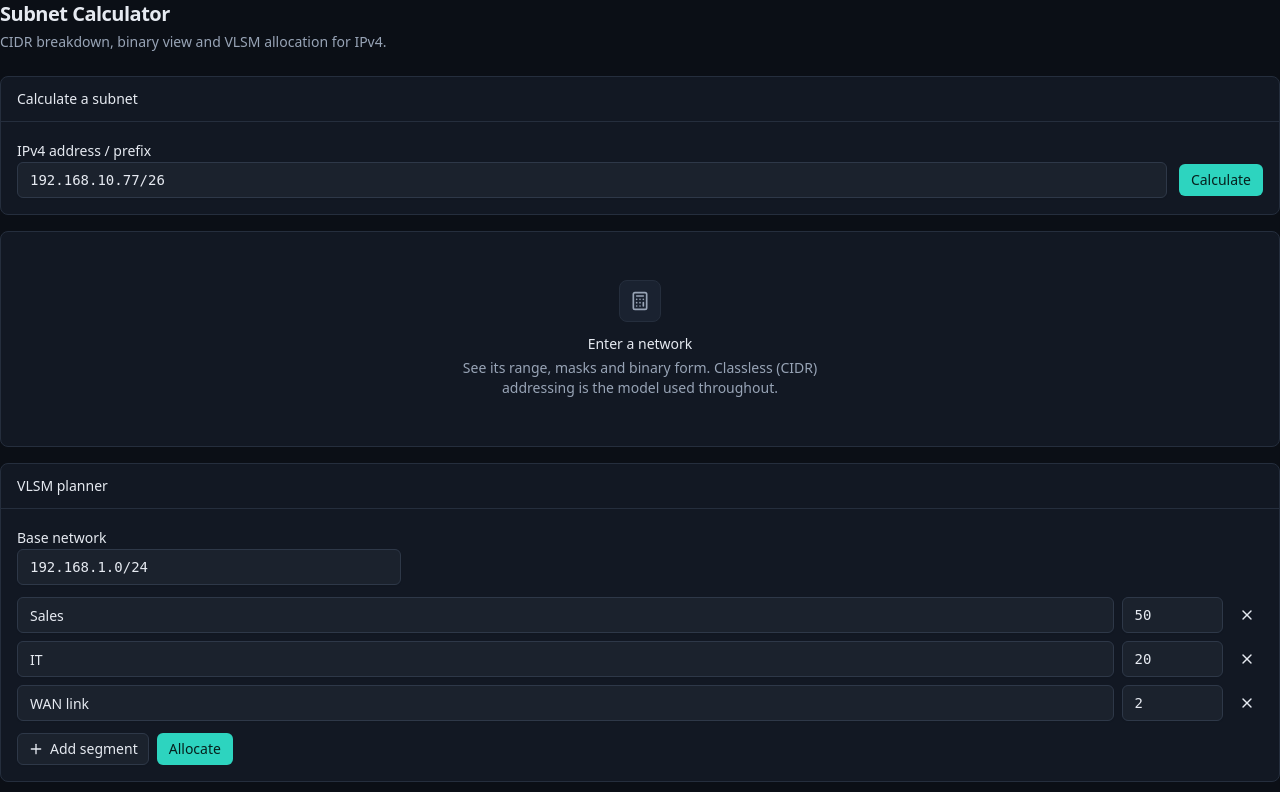
Test: SubnetPage › renders the server's result, showing None for a /31's broadcast
Click the button "Calculate": (1221, 180) [1179,164,1263,196]
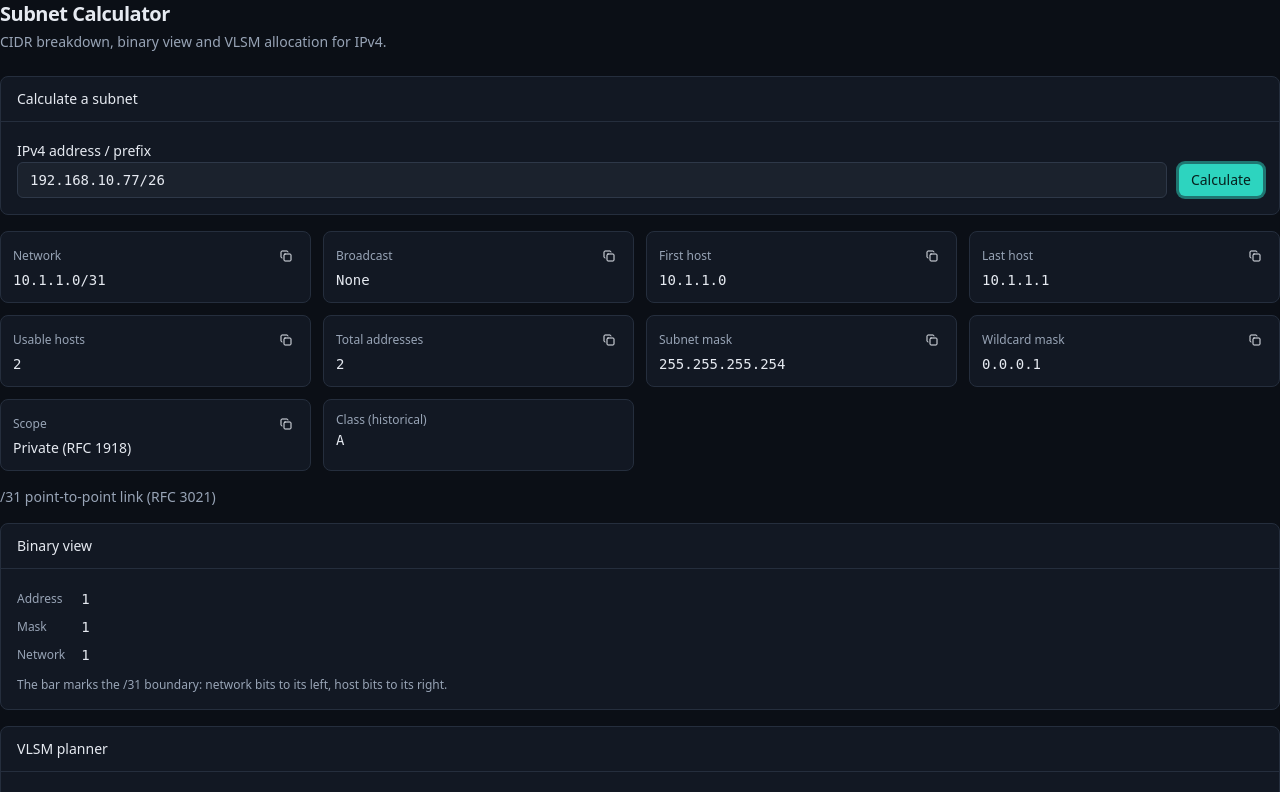
Now the text "10.1.1.0/31" is shown, box [13,272,106,288]
Now the text "None" is shown, box [336,272,370,288]
Now the text "/31 point-to-point link (RFC 3021)" is shown, box [0,487,216,506]
